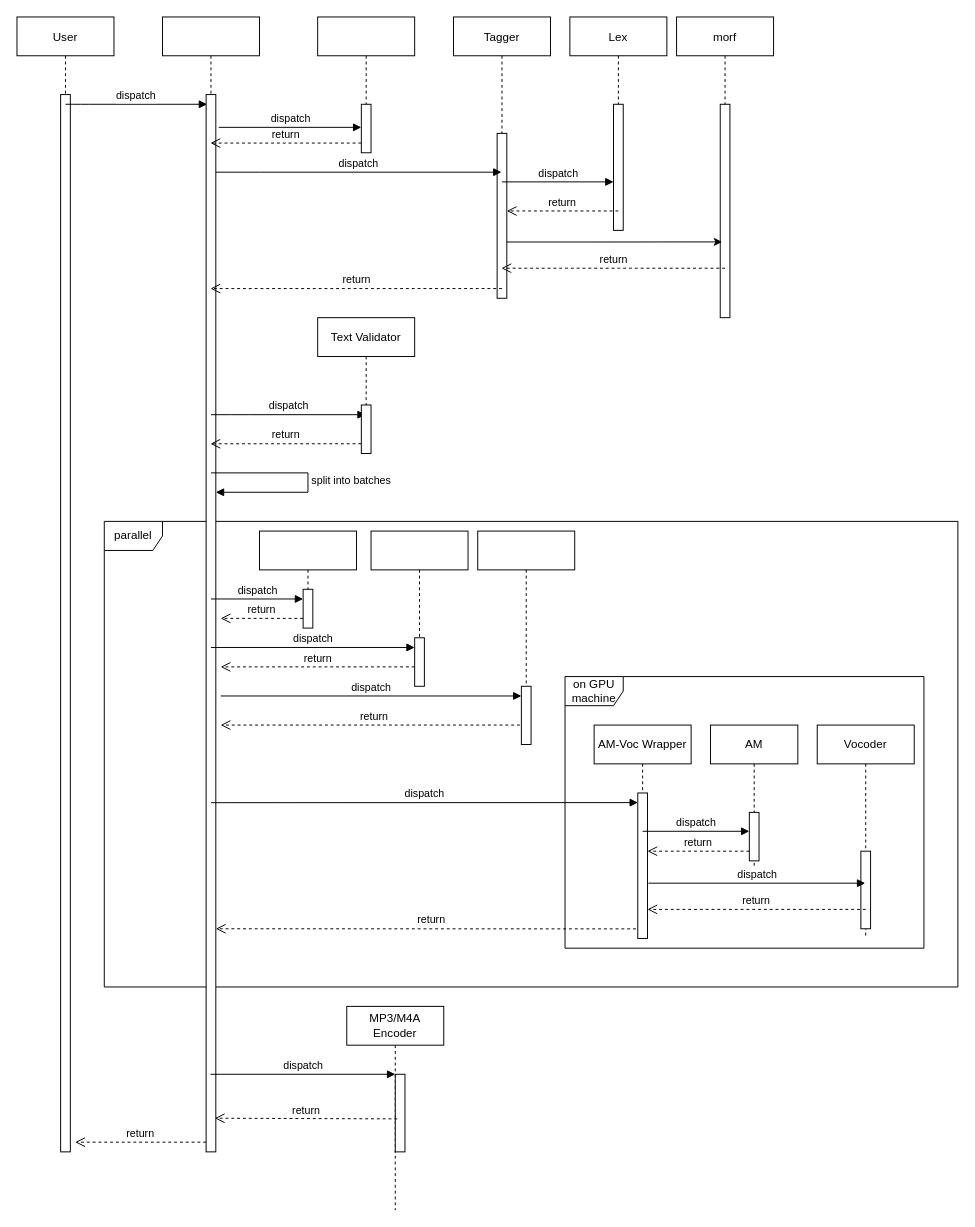
The diagram is 975 pixels wide and 1227 high, and some of its shapes have lost their labels. Each missing label, with the box of its shape:
Accenter: (370, 530, 468, 686)
Acronym service: (259, 530, 356, 628)
Number replace: (317, 16, 415, 153)
Transcriber: (477, 530, 575, 744)
TTS: (162, 16, 259, 1152)
